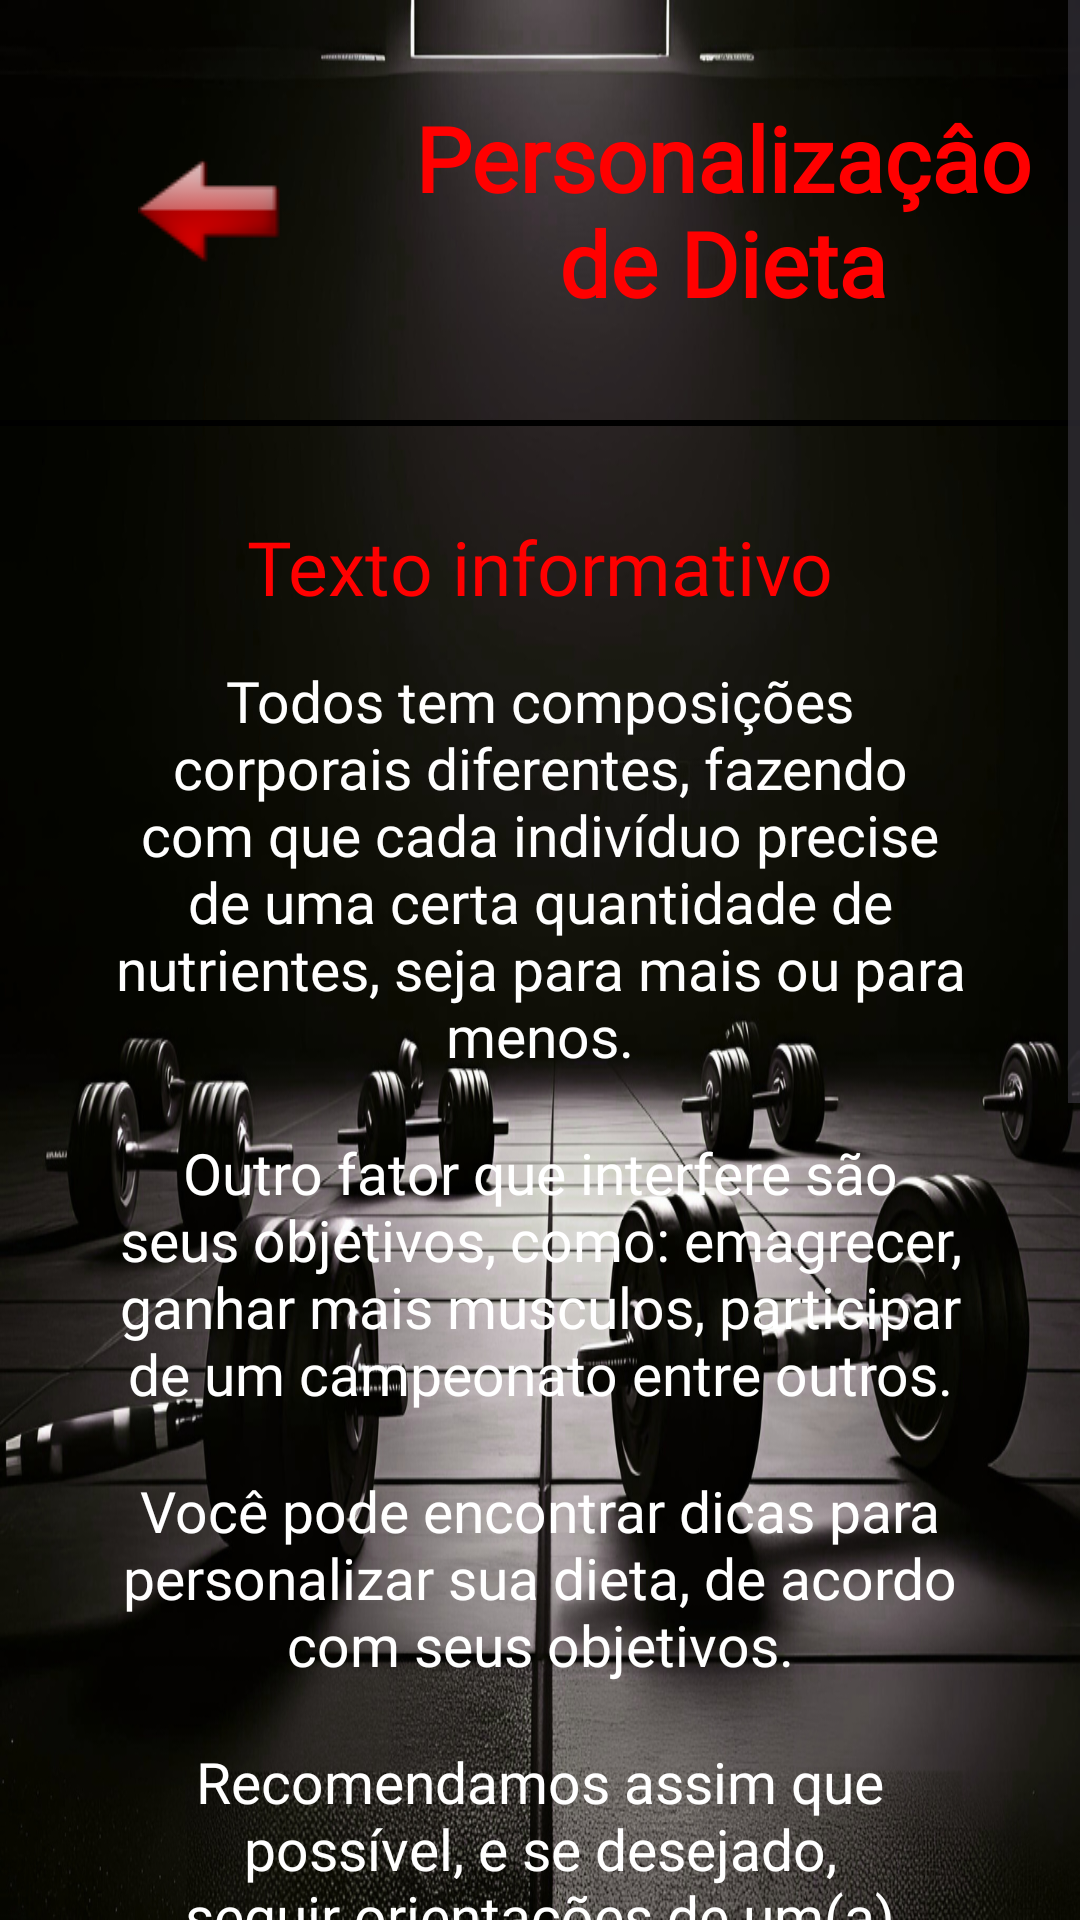

Screen size 1080×1920. Icon name, then its center in pixels as (x=x, y=y):
arrow: (x=209, y=211)
